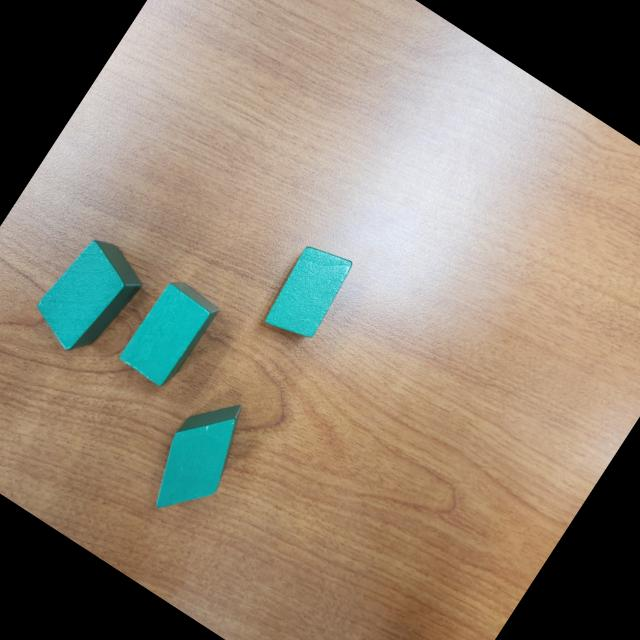green: (136, 383, 262, 529), (22, 227, 152, 367), (114, 274, 223, 394), (257, 235, 358, 350)
